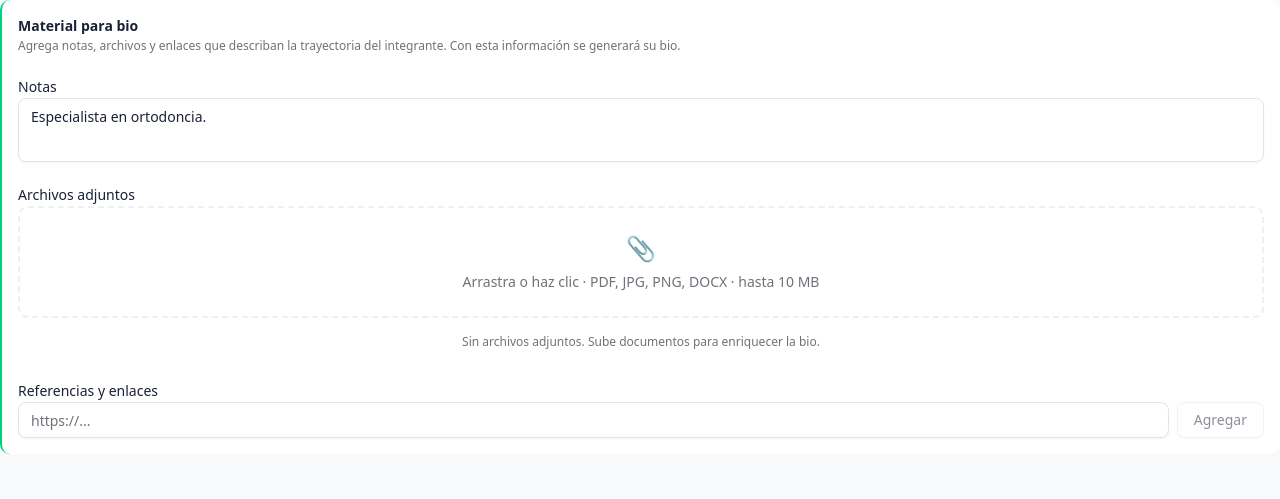
Test: BioRepoInputs › valid URL clears error and adds chip
This screenshot has width=1280, height=499.
Type "not-a-url" into the field named "URL de referencia" at (593, 420), box [18,402,1169,438]
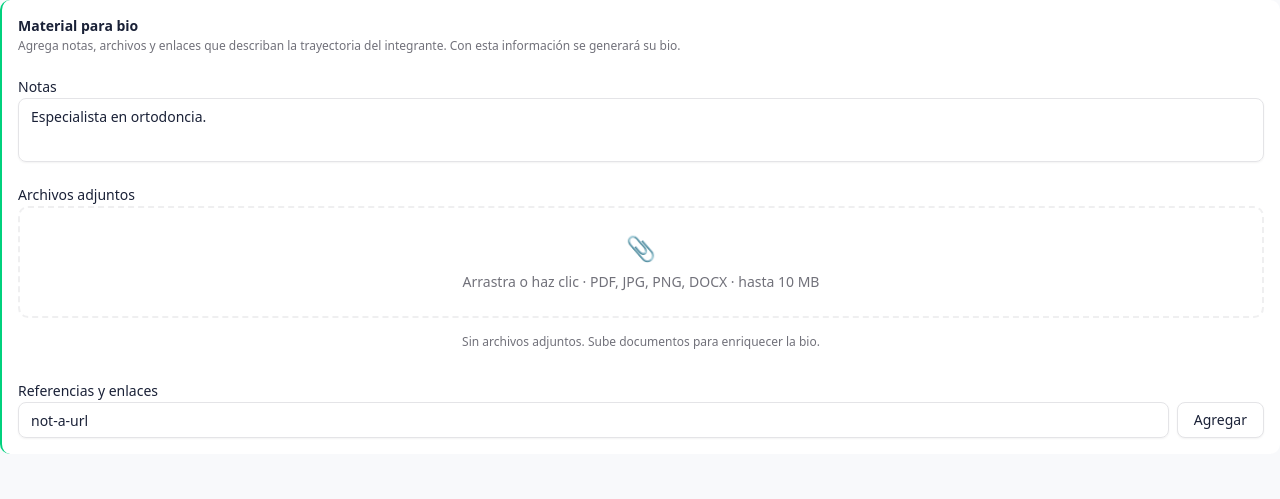
Click the button with aria-label "Agregar enlace" at (1220, 420), box [1177,402,1264,438]
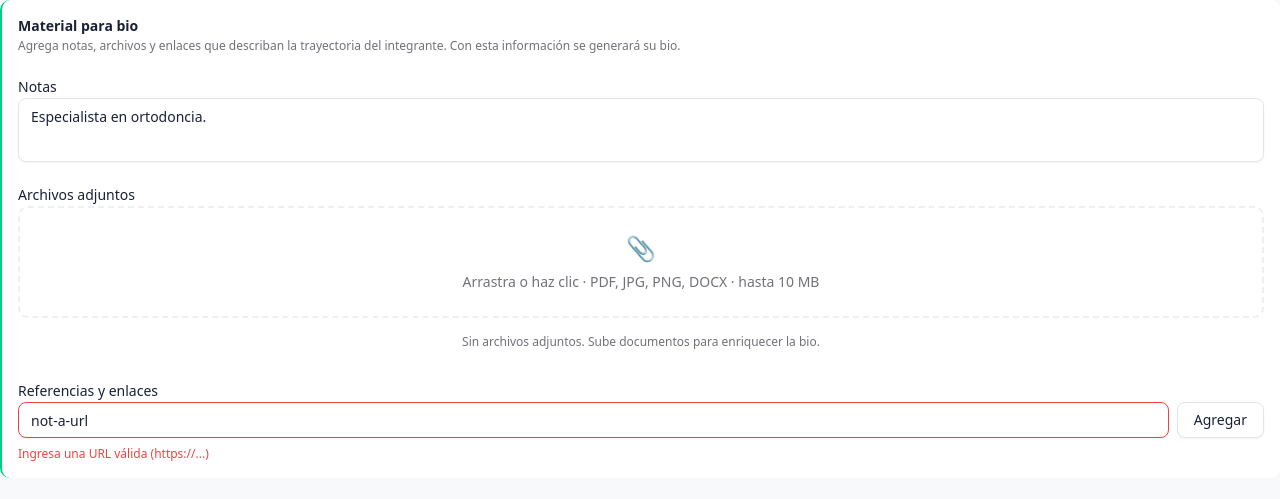
Check: the text "Ingresa una URL válida (https://...)" is shown, box [18,445,209,462]
# Now enter a valid URL
Replace the text in the field named "URL de referencia" with "https://linkedin.com/in/maria" at (593, 420), box [18,402,1169,438]
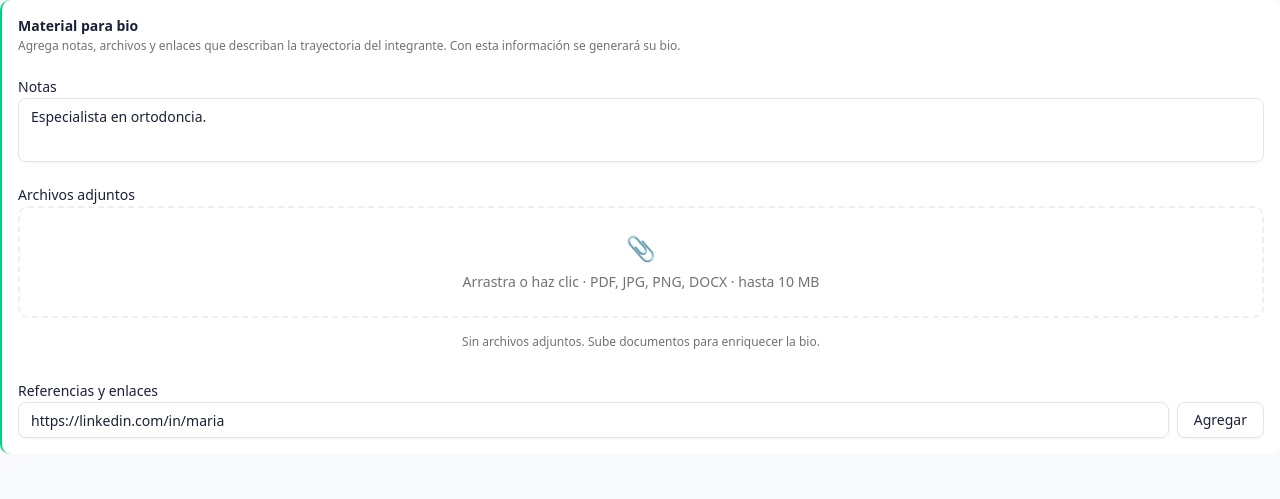
Click the button with aria-label "Agregar enlace" at (1220, 420), box [1177,402,1264,438]
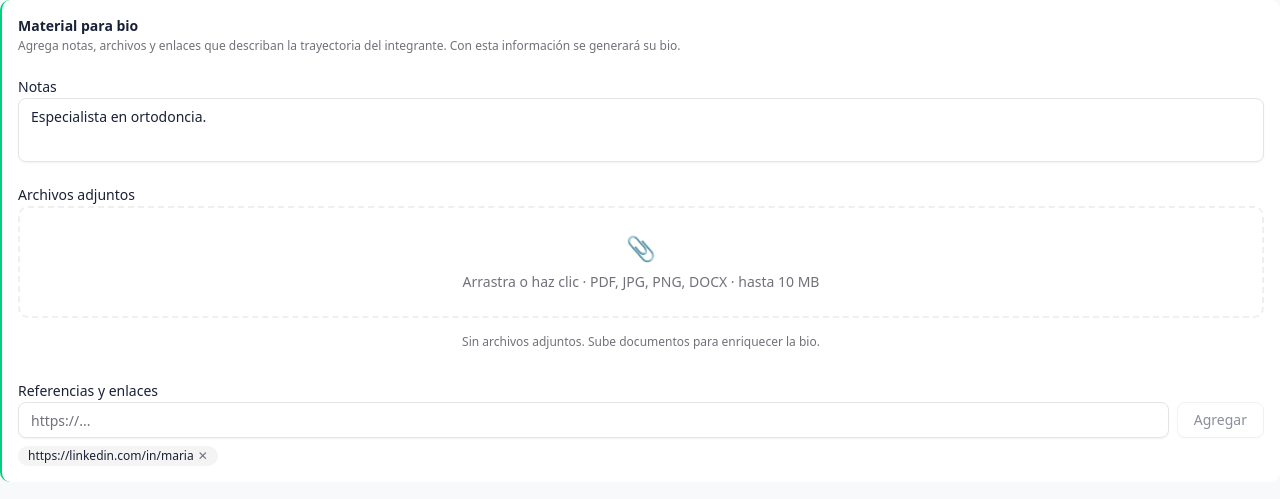
Check: the text "Ingresa una URL válida" is not shown
Check: the link "https://linkedin.com/in/maria" is shown, box [28,448,194,464]
